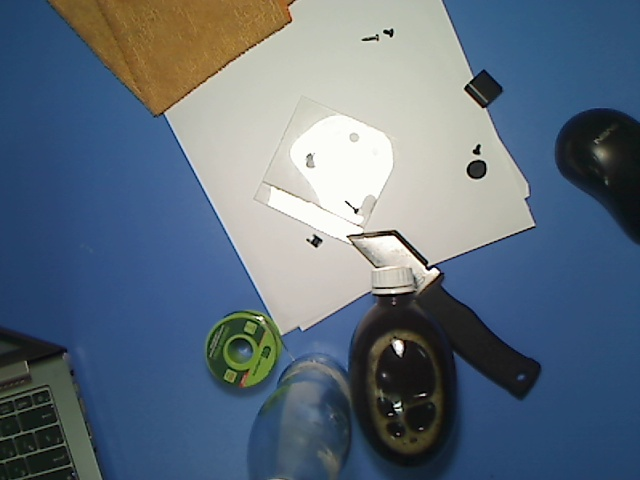plast_bottle: (343, 261, 459, 470)
